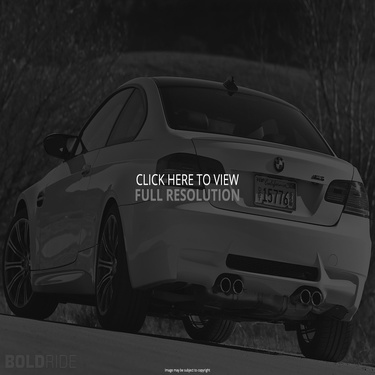car: (1, 72, 373, 365)
